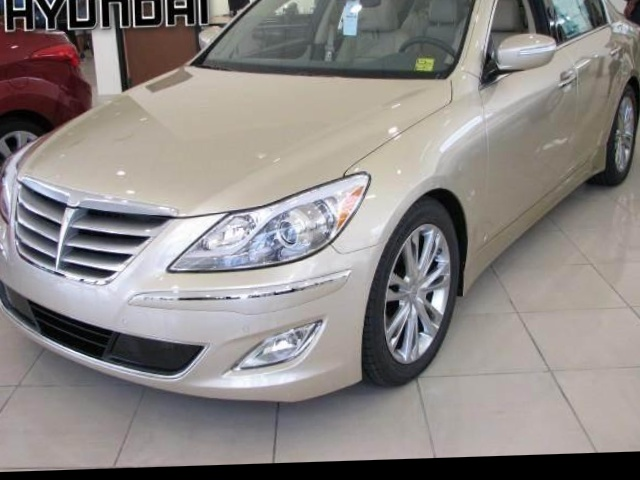car: (0, 0, 640, 433)
